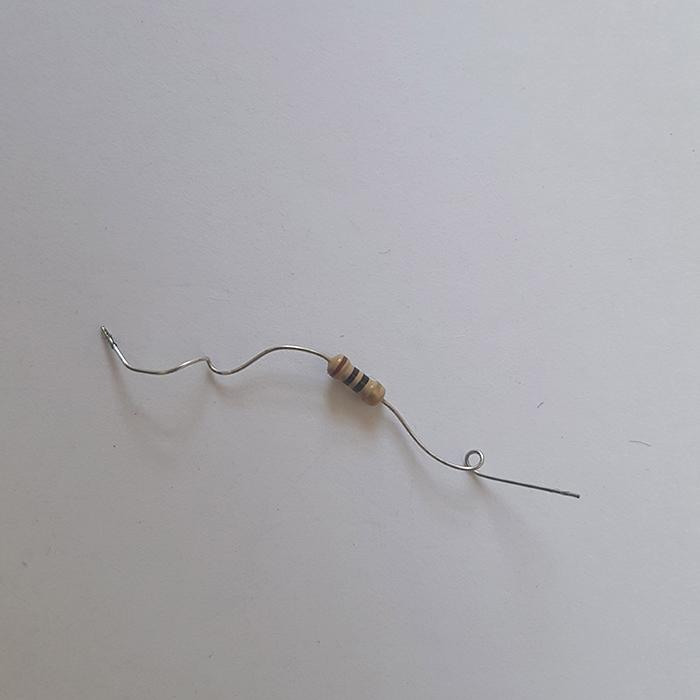resistor: (325, 352, 384, 406)
